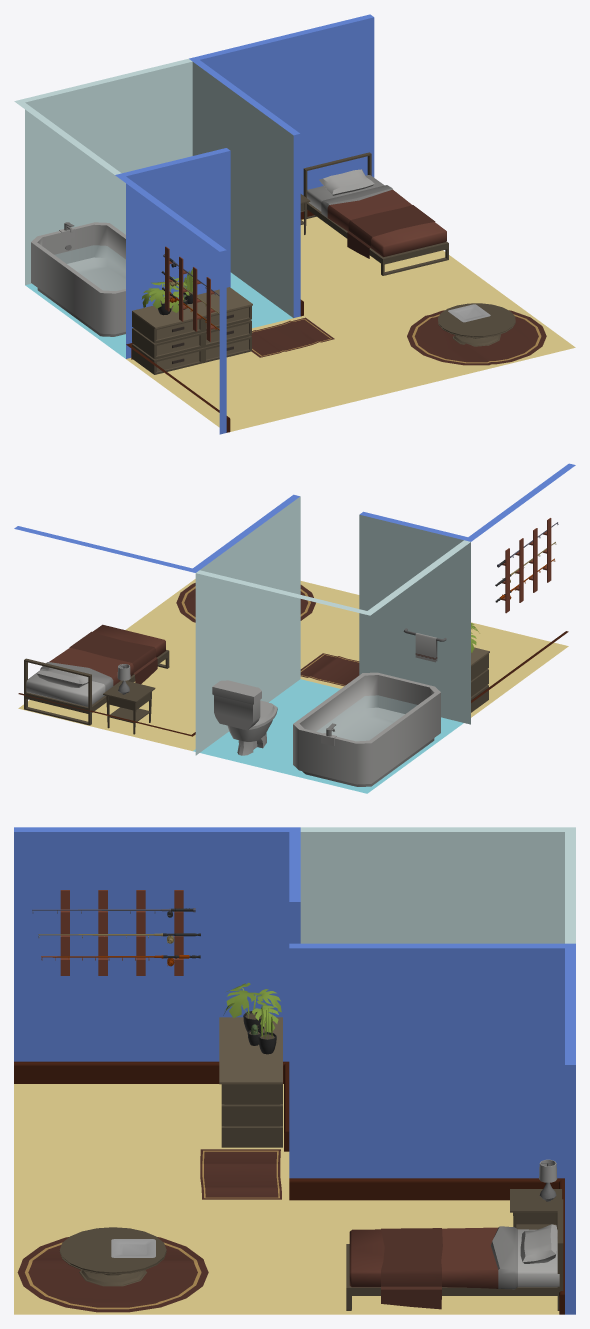
The model's file is room.glb.
3 renders of one model, top to bottom at view 1: azimuth 30°, elevation 25°; view 2: azimuth 150°, elevation 25°; view 3: azimuth 270°, elevation 25°, orthographic. The views are drawn at different scales.
Visible parts, largest first — view 1: toilet wall.001, wall.001, floor, Bed, Bathtub, Drawer_5, Carpet_Round, Table_RoundSmall, Carpet_1, toilet floor, fishingRod hanger.001, Houseplant_7; view 2: toilet wall.001, floor, Bathtub, Bed, toilet floor, wall.001, Toilet, NightStand_2, fishingRod hanger.001, Carpet_1, Drawer_5, Carpet_Round (+1 smaller); view 3: wall.001, floor, toilet wall.001, Bed, Carpet_Round, Drawer_5, Carpet_1, Table_RoundSmall, fishingRod hanger.001, NightStand_2, Houseplant_7, Plate (+1 smaller).
Part boxes in pixels (left/top/right/bottom): toilet wall.001: left=14, top=58, right=293, bottom=317; wall.001: left=115, top=14, right=374, bottom=434; floor: left=126, top=216, right=575, bottom=431; Bed: left=303, top=152, right=448, bottom=275; Bathtub: left=31, top=222, right=125, bottom=336; Drawer_5: left=132, top=287, right=252, bottom=374; Carpet_Round: left=407, top=310, right=546, bottom=365; Table_RoundSmall: left=438, top=303, right=515, bottom=346; Carpet_1: left=251, top=317, right=334, bottom=357; toilet floor: left=25, top=272, right=292, bottom=358; fishingRod hanger.001: left=165, top=246, right=215, bottom=341; Houseplant_7: left=141, top=277, right=189, bottom=315; toilet wall.001: left=195, top=496, right=470, bottom=755; floor: left=18, top=579, right=568, bottom=750; Bathtub: left=293, top=672, right=440, bottom=786; Bed: left=24, top=624, right=169, bottom=725; toilet floor: left=193, top=679, right=463, bottom=793; wall.001: left=14, top=463, right=575, bottom=736; Toilet: left=212, top=680, right=277, bottom=755; NightStand_2: left=103, top=680, right=155, bottom=734; fishingRod hanger.001: left=501, top=518, right=551, bottom=613; Carpet_1: left=300, top=653, right=359, bottom=686; Drawer_5: left=471, top=647, right=489, bottom=712; Carpet_Round: left=176, top=583, right=315, bottom=622; wall.001: left=14, top=827, right=575, bottom=1314; floor: left=14, top=1084, right=559, bottom=1314; toilet wall.001: left=300, top=827, right=575, bottom=943; Bed: left=346, top=1199, right=563, bottom=1310; Carpet_Round: left=17, top=1237, right=208, bottom=1312; Drawer_5: left=219, top=1017, right=282, bottom=1147; Carpet_1: left=200, top=1149, right=281, bottom=1199; Table_RoundSmall: left=59, top=1227, right=166, bottom=1286; fishingRod hanger.001: left=60, top=890, right=183, bottom=975; NightStand_2: left=510, top=1189, right=562, bottom=1229; Houseplant_7: left=223, top=982, right=281, bottom=1032; Plate: left=111, top=1239, right=155, bottom=1257.
Bounding box in the file's own units: 10.2 × 5.01 × 10.2.
